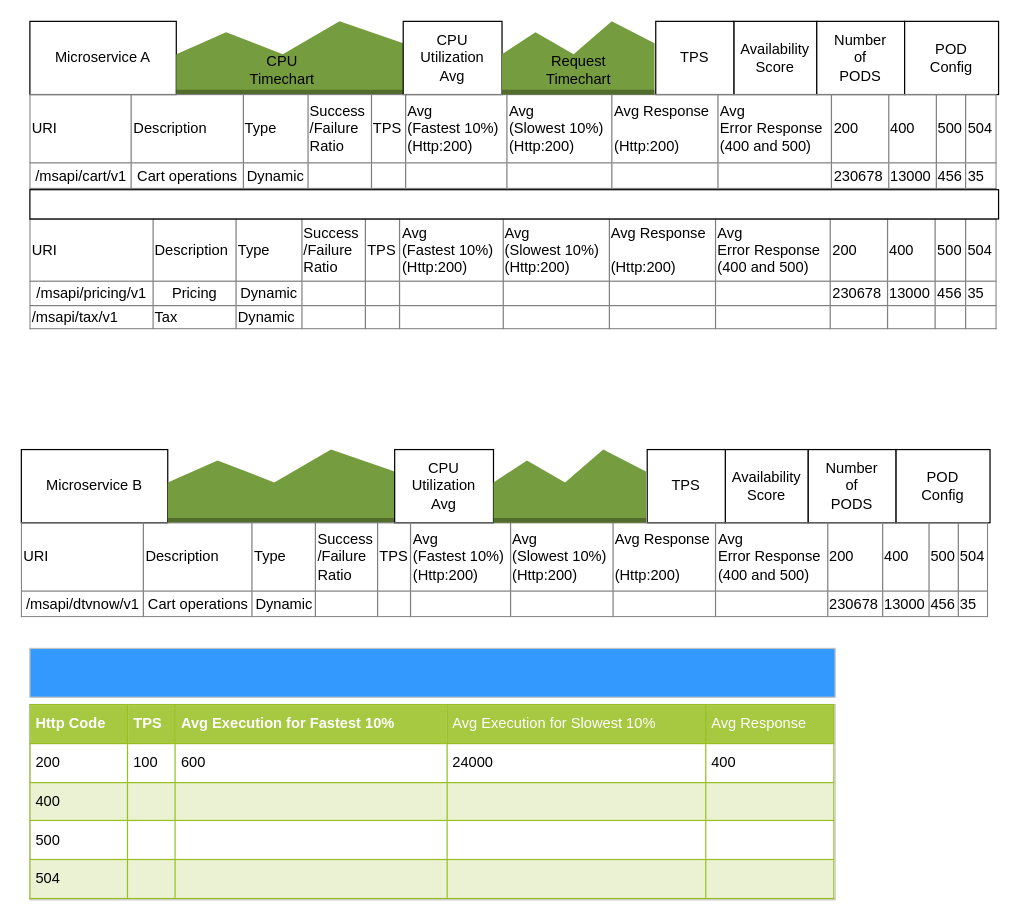
Some shapes in this 1020 by 921 pixel diagram are drawn without their labels. The box of each missing label's shape, as (x1, y1, x2, y2) in pixels:
Outgoing APIs: (29, 188, 999, 219)
URI /msapi/cart/v1 Description Type: Static/Dynamic Success/Failure Ratio: (29, 647, 835, 697)
